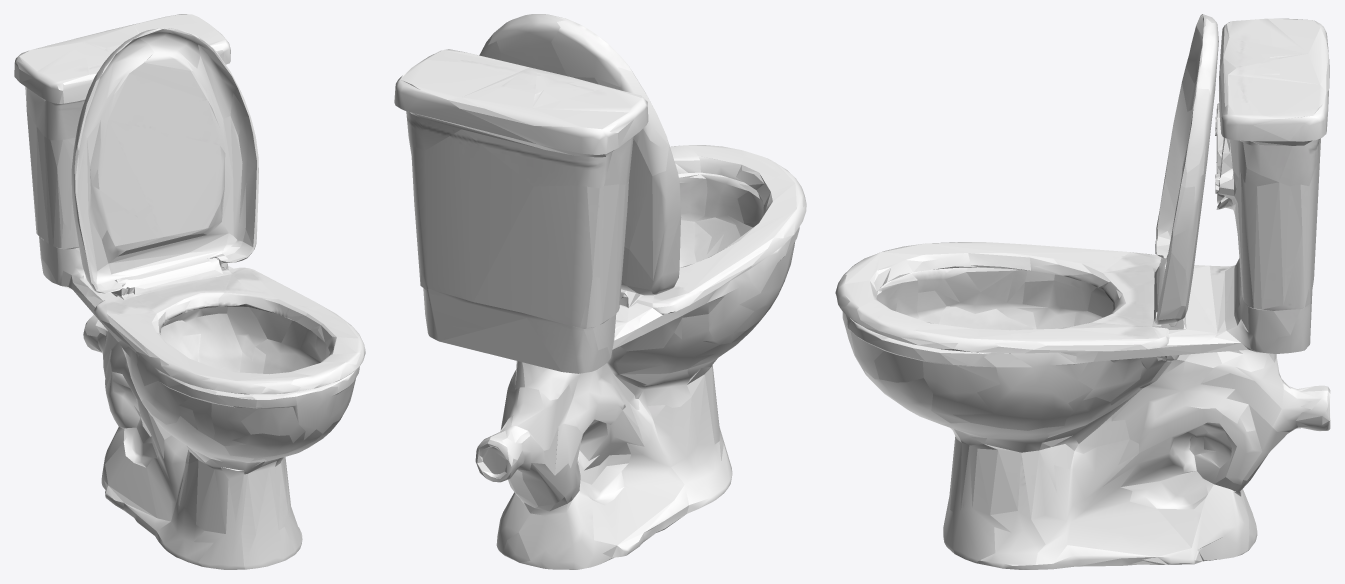
The model's file is toilet.glb.
3 views of the same model, side by side, from view 1: azimuth 30°, elevation 25°; view 2: azimuth 150°, elevation 25°; view 3: azimuth 270°, elevation 25° (orthographic). The views are drawn at different scales.
Size of the model in its own units: 0.8191 by 1.9 by 1.65.
1 material, 1 textured.
